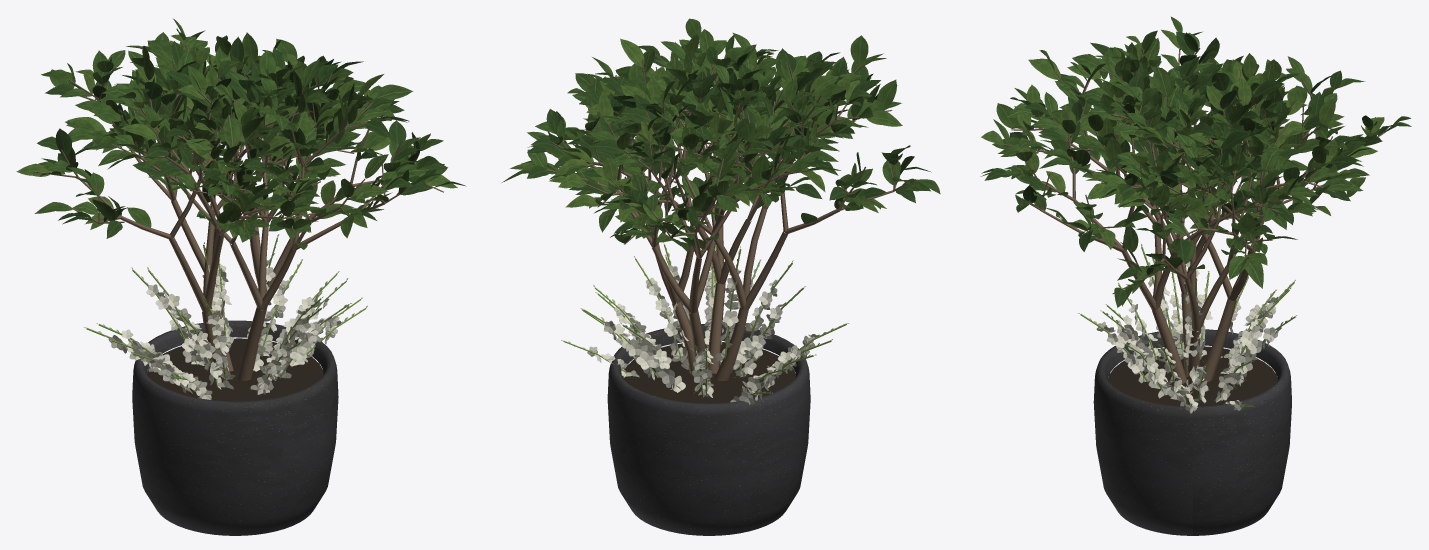
File: props_plants.glb
3 views of the same model, side by side, from view 1: azimuth 30°, elevation 25°; view 2: azimuth 150°, elevation 25°; view 3: azimuth 270°, elevation 25° (orthographic). The views are drawn at different scales.
Parts seen in each view (by area): view 1: planterTree_leaves, planterTree_pot, planterTree_branches, flowers_blossoms, planterTree_soil, flowers_stems; view 2: planterTree_leaves, planterTree_pot, planterTree_branches, flowers_blossoms, planterTree_soil, flowers_stems; view 3: planterTree_leaves, planterTree_pot, planterTree_branches, flowers_blossoms, planterTree_soil, flowers_stems.
Boxes of the visible parts, box(x1,y1,x2,y2) form: planterTree_leaves: box(16, 18, 466, 249); planterTree_pot: box(132, 320, 338, 535); planterTree_branches: box(34, 43, 443, 381); flowers_blossoms: box(83, 234, 367, 399); planterTree_soil: box(147, 338, 323, 401); flowers_stems: box(86, 237, 366, 394); planterTree_leaves: box(502, 18, 940, 252); planterTree_pot: box(607, 324, 810, 535); planterTree_branches: box(547, 41, 915, 384); flowers_blossoms: box(561, 242, 849, 404); planterTree_soil: box(622, 342, 795, 403); flowers_stems: box(563, 244, 846, 396); planterTree_leaves: box(980, 16, 1411, 307); planterTree_pot: box(1093, 329, 1291, 535); planterTree_branches: box(1004, 46, 1391, 387); flowers_blossoms: box(1077, 232, 1296, 413); planterTree_soil: box(1108, 346, 1277, 406); flowers_stems: box(1080, 233, 1295, 407).
Size of the model in its own units: 1.96 by 2.05 by 1.85.
Materials: 8 (3 with a texture image).
